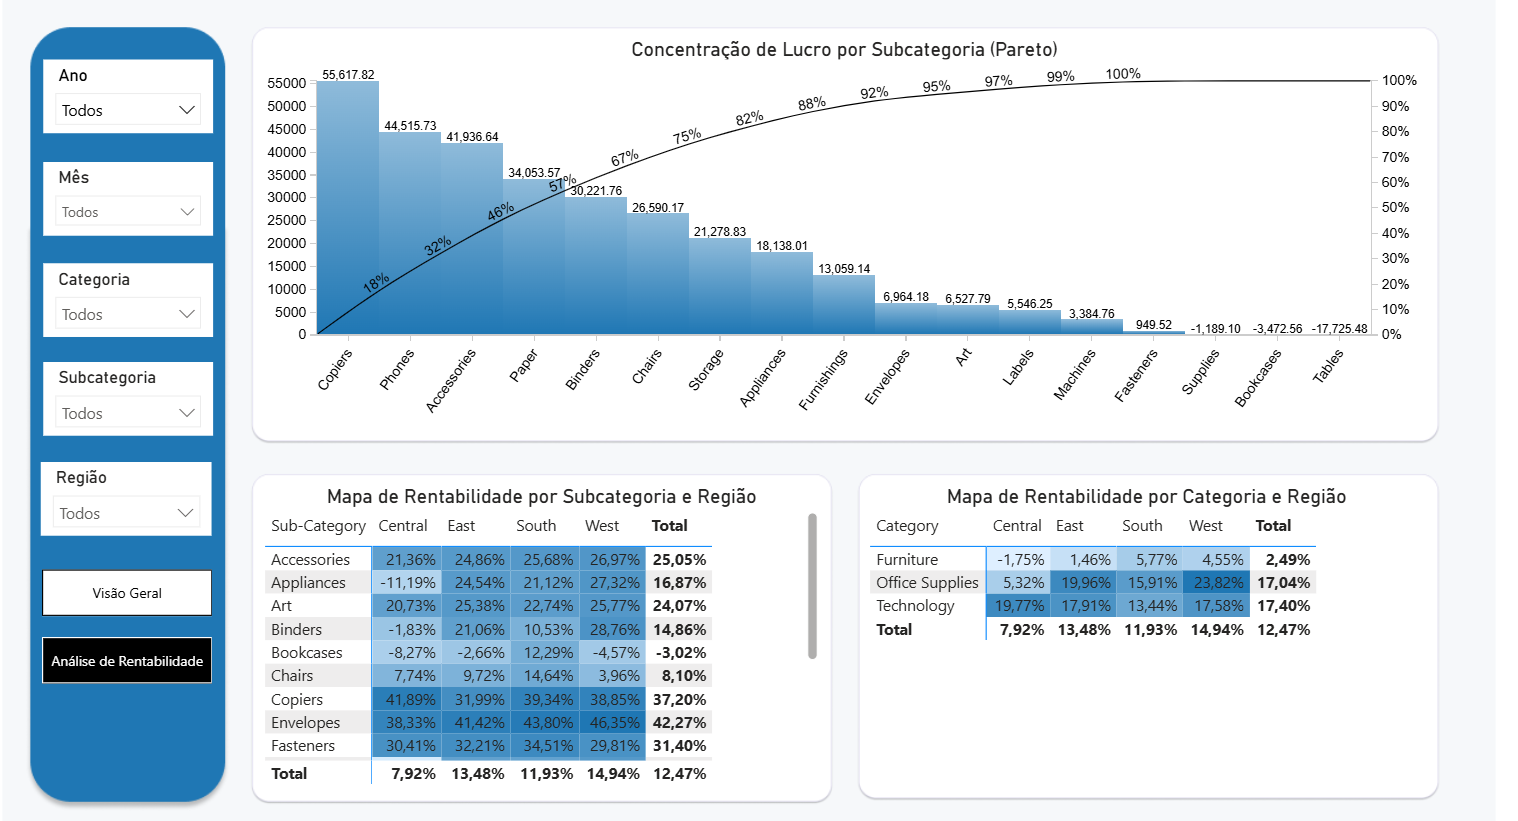

The page's visual inventory and layout, read from the dashboard file:
{"tool":"powerbi","page":{"name":"Insights Estratégicos","canvas":[1280,720],"ordinal":2},"visuals":[{"type":"paretoEDD8E69761BA4B7BB3AA6D813990D7BF","title":"Concentração de Lucro por Subcategoria (Pareto)","fields":{"categories":["Orders.Sub-Category"],"values":["Orders.Total Profit"]},"box":[220.8,33.8,1002.6,340.2],"z":0},{"type":"pivotTable","title":"Mapa de Rentabilidade por Categoria e Região","fields":{"Rows":["Orders.Category"],"Columns":["Orders.Region"],"Values":["Orders.Profit Margin"]},"box":[739.5,417.4,483.8,261.8],"z":1000},{"type":"pivotTable","title":"Mapa de Rentabilidade por Subcategoria e Região","fields":{"Rows":["Orders.Sub-Category"],"Columns":["Orders.Region"],"Values":["Orders.Profit Margin"]},"box":[220.8,417.4,483.8,261.8],"z":2000},{"type":"slicer","fields":{"Values":["Orders.Order Date.Variation.Date Hierarchy.Year"]},"box":[35.2,53.5,145.5,63.1],"z":2001},{"type":"slicer","fields":{"Values":["Orders.Order Date.Variation.Date Hierarchy.Month"]},"box":[35.2,141.3,145.5,63.1],"z":2002},{"type":"slicer","fields":{"Values":["Orders.Category"]},"box":[35.2,227.8,145.5,63.1],"z":2003},{"type":"slicer","fields":{"Values":["Orders.Sub-Category"]},"box":[35.2,312.9,145.5,63.1],"z":2004},{"type":"slicer","fields":{"Values":["Orders.Region"]},"box":[33.6,399,146.4,63.1],"z":2005}]}

Visuals, with their boxes on the page's 1280x720 design canvas (x1, y1, x2, y2). These are canvas units, not pixel positions in the 1518x821 screenshot, which may show the page scaled, cropped or inside an application window:
"Concentração de Lucro por Subcategoria (Pareto)" paretoEDD8E69761BA4B7BB3AA6D813990D7BF: [x1=221, y1=34, x2=1223, y2=374]
"Mapa de Rentabilidade por Categoria e Região" pivotTable: [x1=740, y1=417, x2=1223, y2=679]
"Mapa de Rentabilidade por Subcategoria e Região" pivotTable: [x1=221, y1=417, x2=705, y2=679]
slicer - Orders.Order Date.Variation.Date Hierarchy.Year: [x1=35, y1=54, x2=181, y2=117]
slicer - Orders.Order Date.Variation.Date Hierarchy.Month: [x1=35, y1=141, x2=181, y2=204]
slicer - Orders.Category: [x1=35, y1=228, x2=181, y2=291]
slicer - Orders.Sub-Category: [x1=35, y1=313, x2=181, y2=376]
slicer - Orders.Region: [x1=34, y1=399, x2=180, y2=462]
